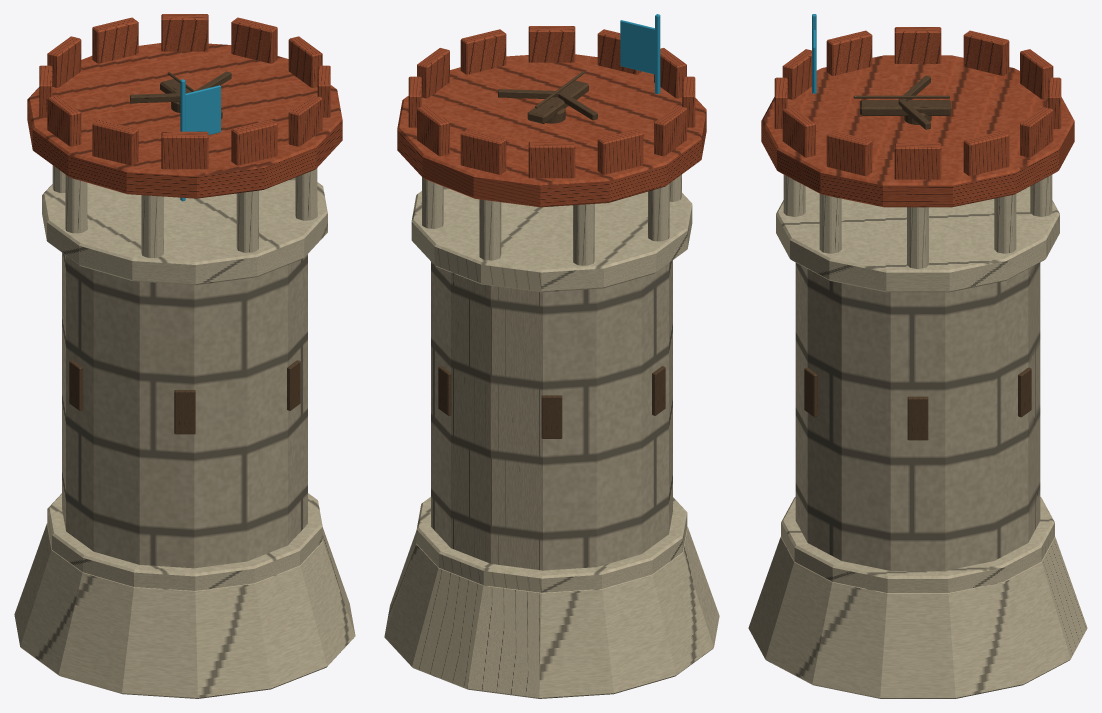
The model's file is edificio-tower-e1-lod0-B7yp5Mdr.glb.
3 views of the same model, side by side, from view 1: azimuth 30°, elevation 25°; view 2: azimuth 150°, elevation 25°; view 3: azimuth 270°, elevation 25° (orthographic).
Parts seen in each view (by area): view 1: envolvente_torre, team_color, mecanismo_ataque_torre_e1; view 2: envolvente_torre, mecanismo_ataque_torre_e1, team_color; view 3: envolvente_torre, mecanismo_ataque_torre_e1.
Part boxes in pixels (x1,y1,x2,y2): envolvente_torre: [14, 14, 355, 698]; team_color: [180, 79, 220, 201]; mecanismo_ataque_torre_e1: [130, 71, 231, 118]; envolvente_torre: [384, 26, 719, 698]; mecanismo_ataque_torre_e1: [498, 71, 597, 123]; team_color: [620, 14, 660, 93]; envolvente_torre: [748, 27, 1087, 698]; mecanismo_ataque_torre_e1: [853, 75, 950, 129].
Bounding box in the file's own units: 31.88 × 62.62 × 32.7.
Materials: 2 (1 with a texture image).
